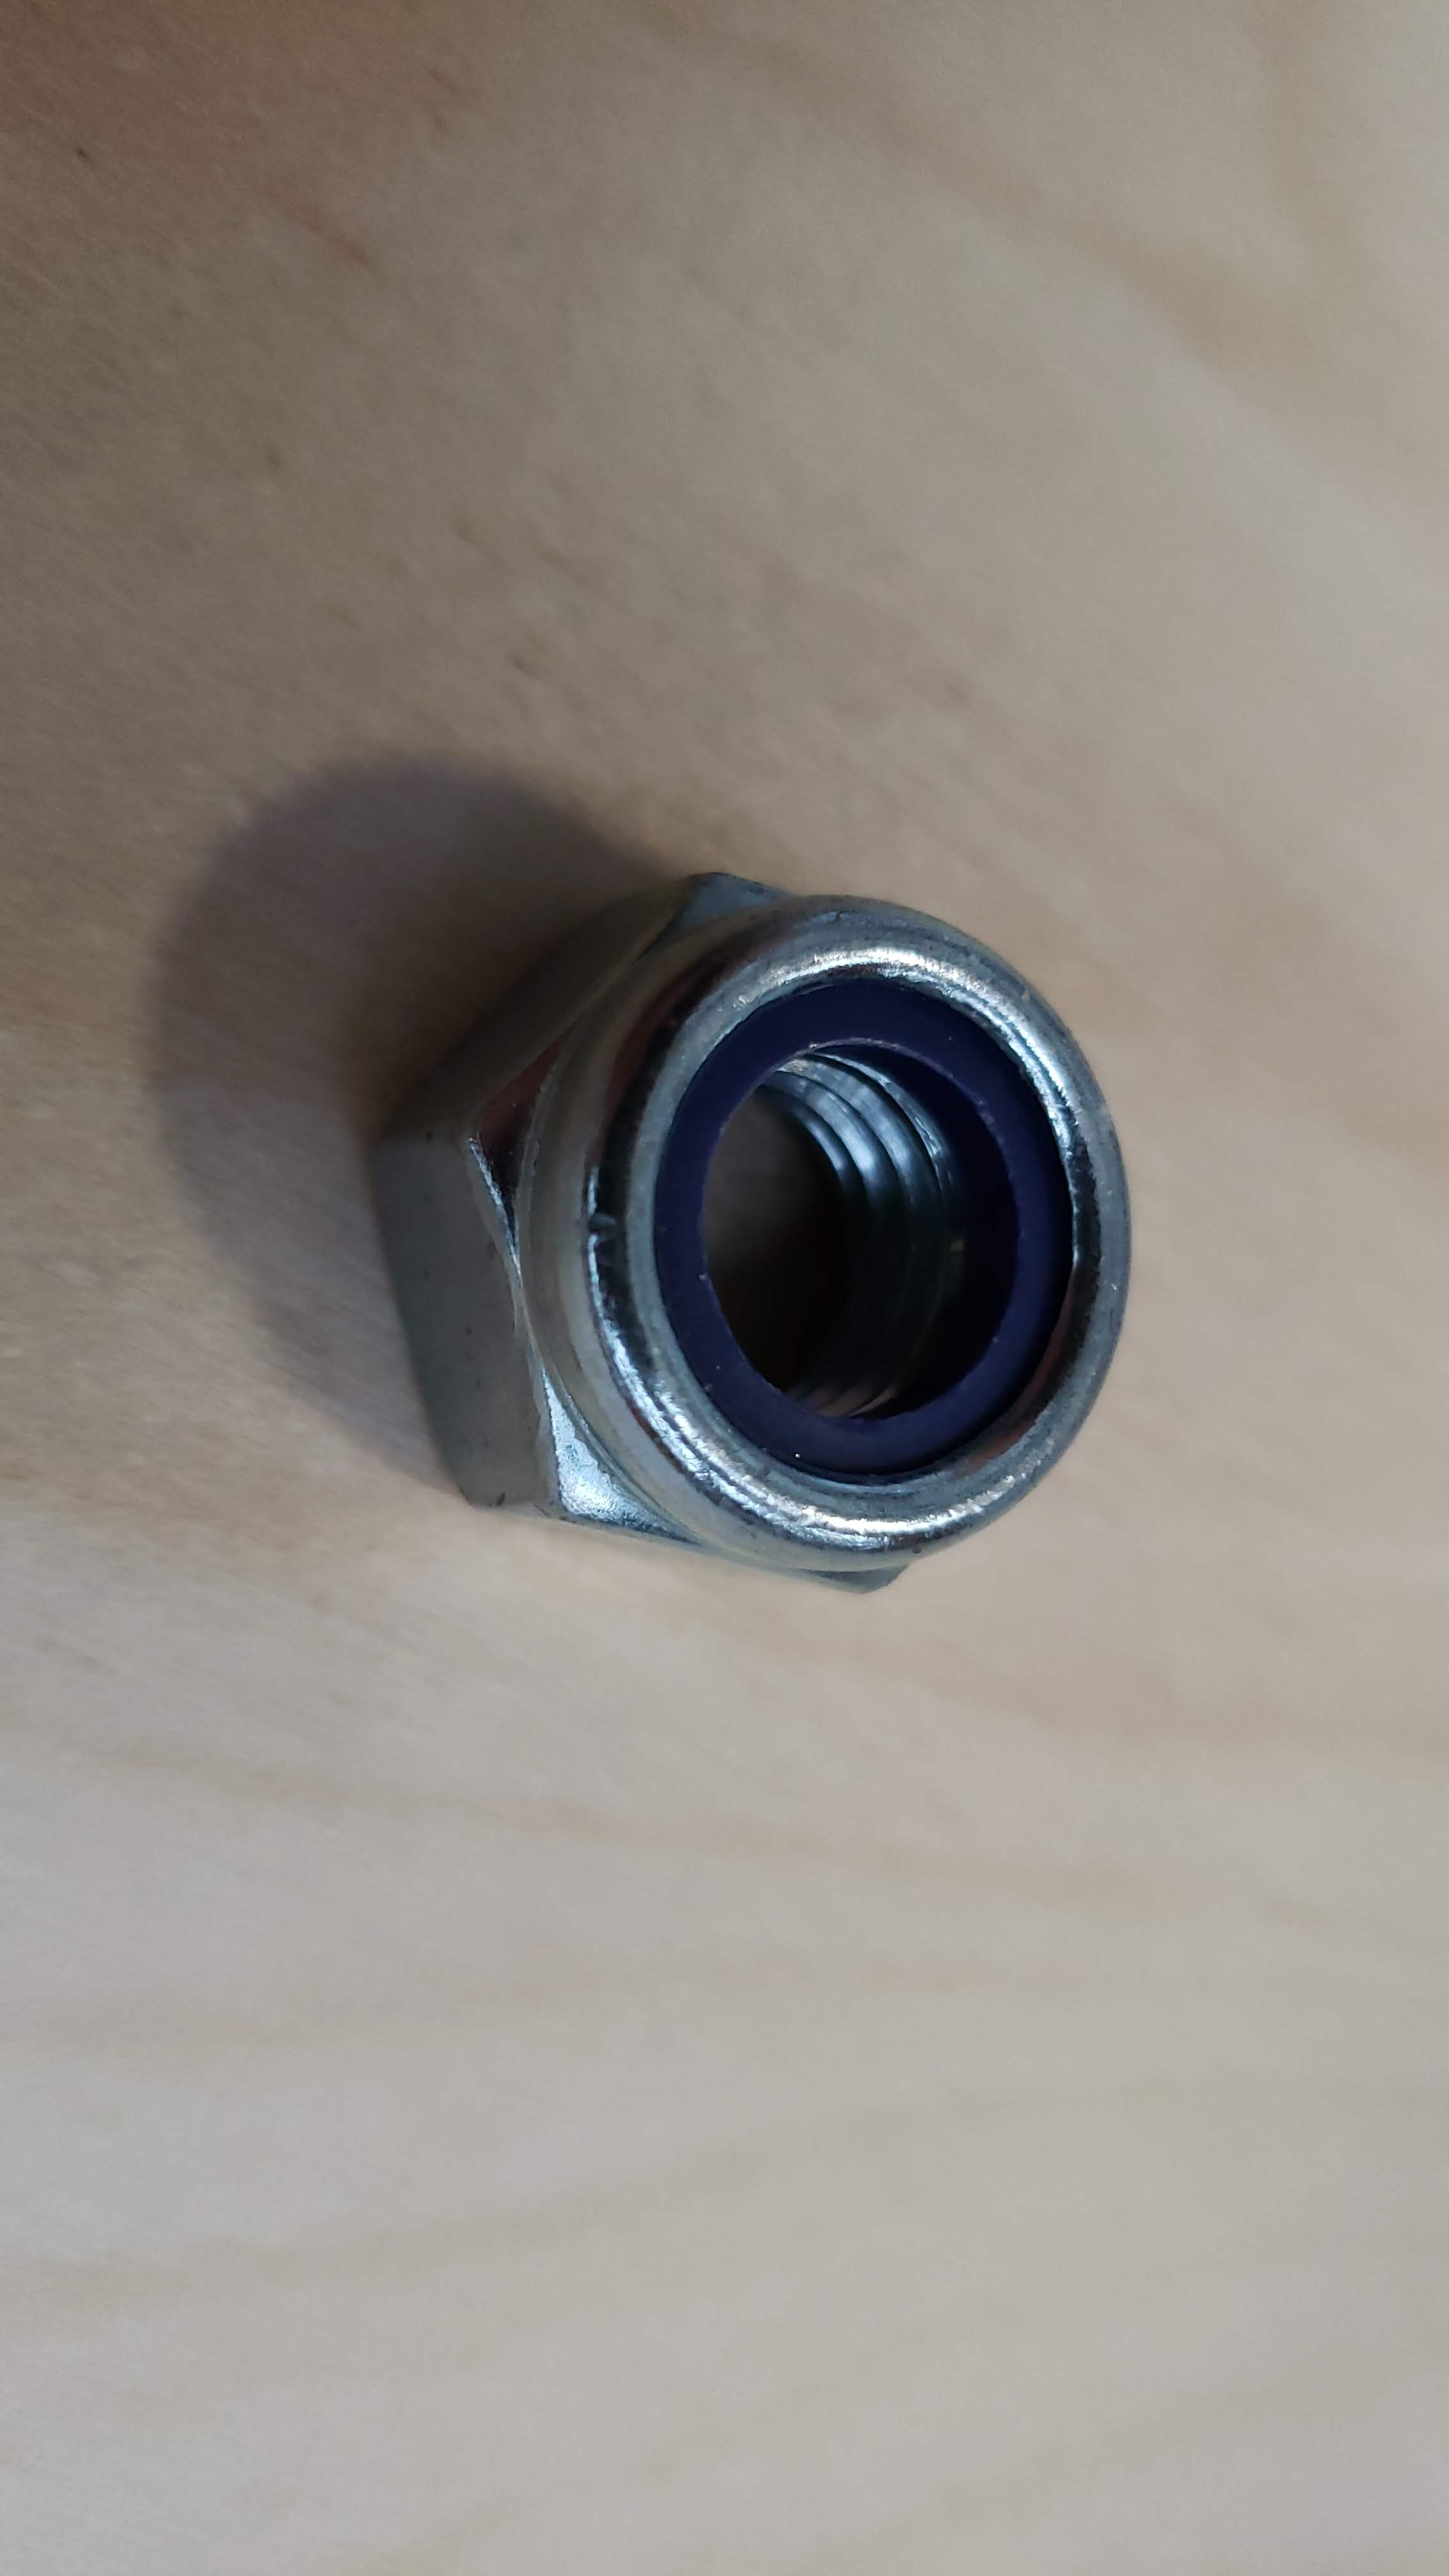Nut: (191, 706, 1258, 1691)
